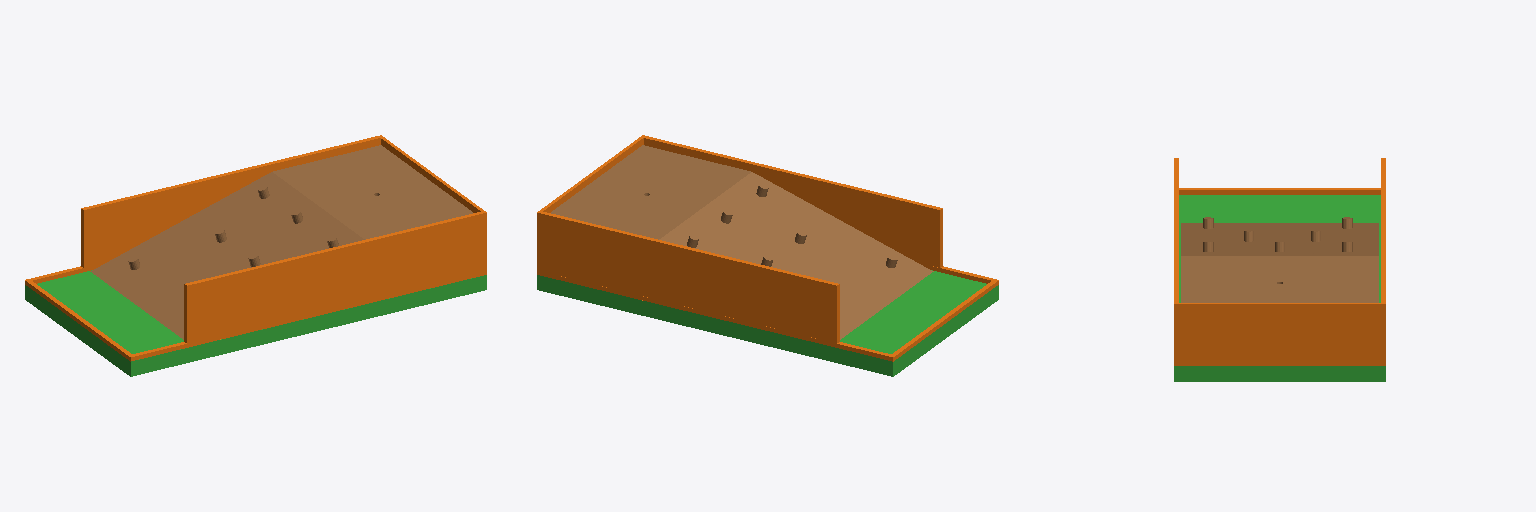
File: tinker.obj
3 views of the same model, side by side, from view 1: azimuth 30°, elevation 25°; view 2: azimuth 150°, elevation 25°; view 3: azimuth 270°, elevation 25° (orthographic).
Visible parts, largest first — view 1: obj_0; view 2: obj_0; view 3: obj_0.
Boxes of the visible parts, box(x1,y1,x2,y2) form: obj_0: box(25, 135, 486, 376); obj_0: box(537, 135, 998, 376); obj_0: box(1174, 158, 1385, 381).
Size of the model in its own units: 158 by 32.8 by 81.39.